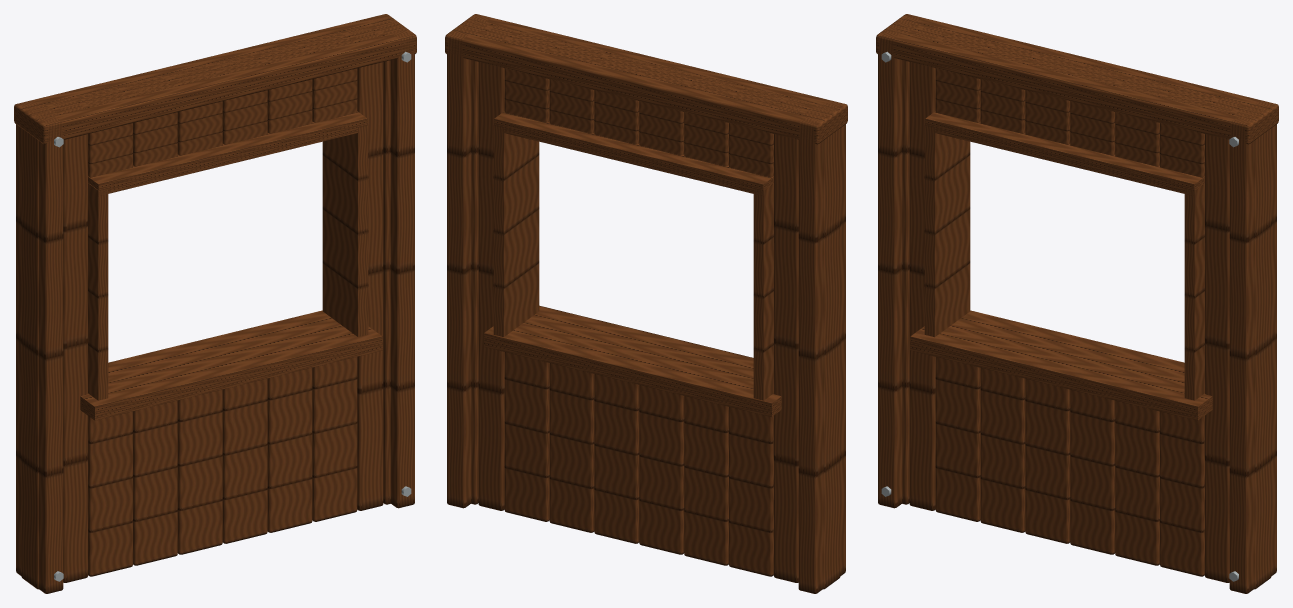
The model's file is fortified-compound-expansion-gatehouse-overlook-wall-4d3880ed__27104.glb.
The picture shows the model from 3 angles, left to right: view 1: azimuth 30°, elevation 25°; view 2: azimuth 150°, elevation 25°; view 3: azimuth 330°, elevation 25°; orthographic projection.
Visible parts, largest first — view 1: gatehouse-overlook-wall; view 2: gatehouse-overlook-wall; view 3: gatehouse-overlook-wall.
Part boxes in pixels (bbox=[...]): gatehouse-overlook-wall: bbox=[14, 14, 416, 593]; gatehouse-overlook-wall: bbox=[445, 14, 847, 593]; gatehouse-overlook-wall: bbox=[876, 14, 1278, 593].
Bounding box in the file's own units: 2 × 2.4 × 0.39.
2 materials, 1 textured.
